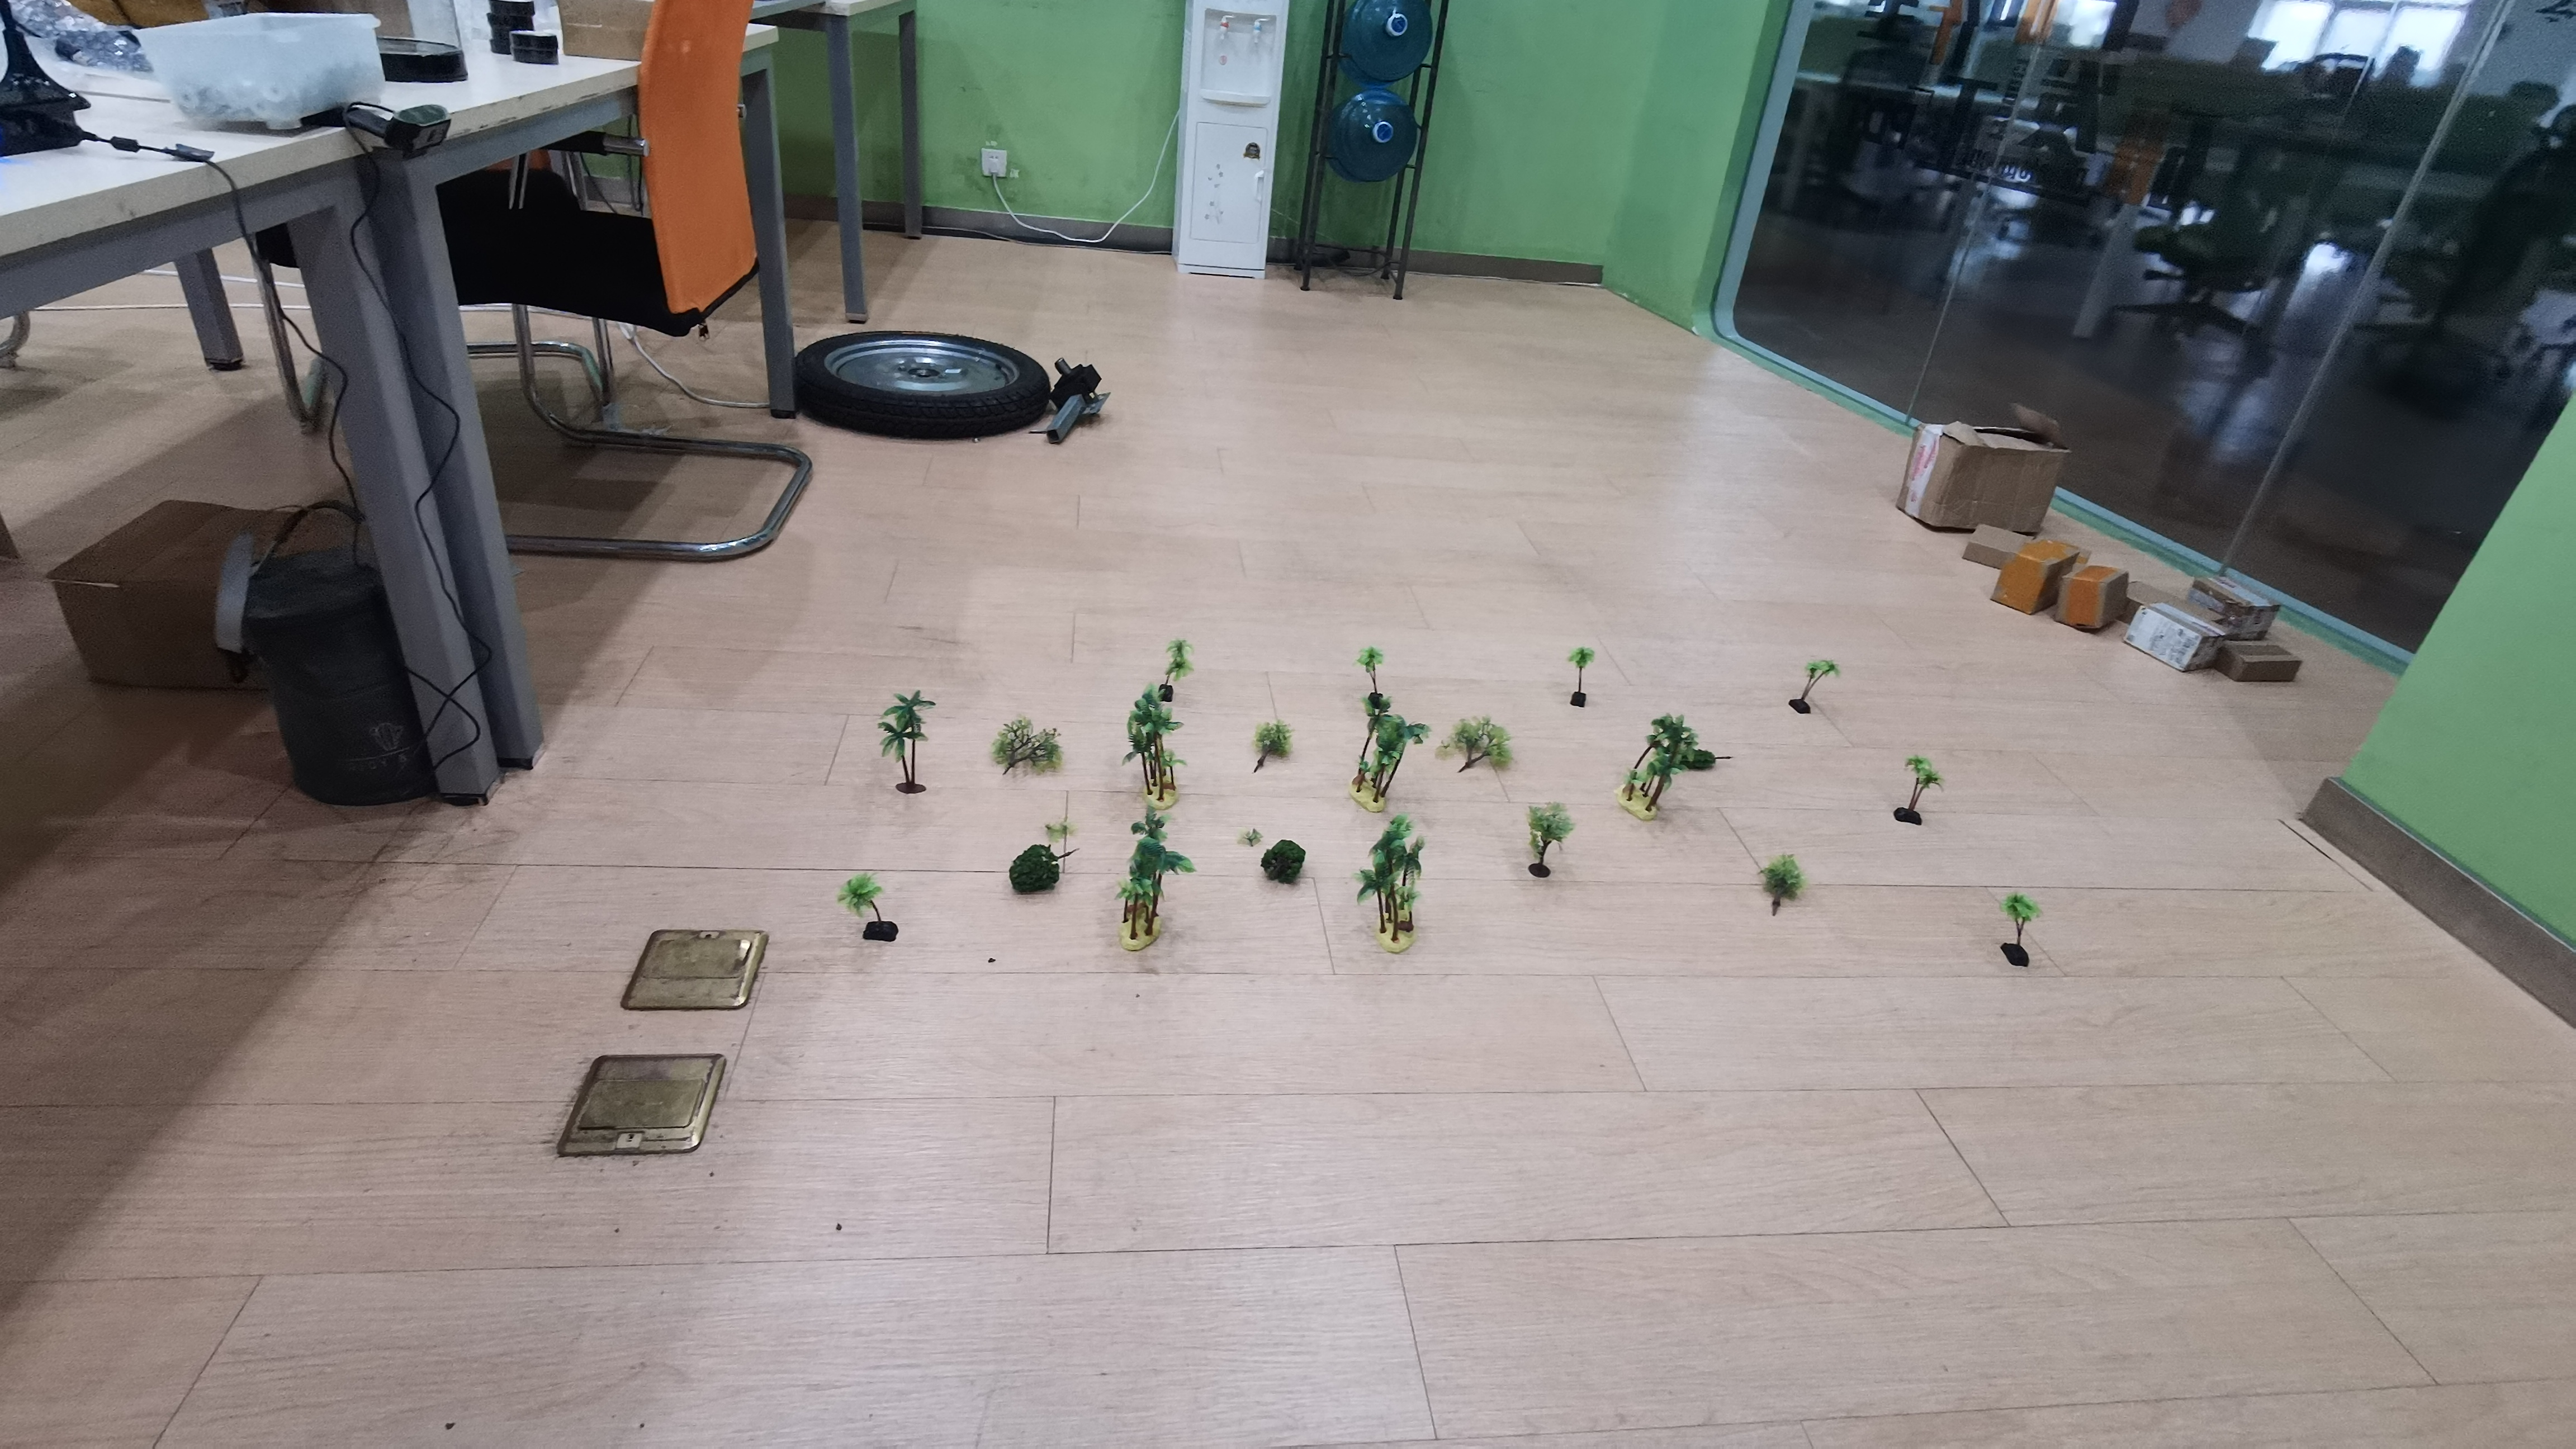corn: (1100, 805, 1201, 959), (1332, 816, 1435, 950), (1612, 711, 1721, 823), (1336, 697, 1433, 810), (867, 685, 945, 796), (1127, 695, 1200, 814), (1985, 886, 2056, 982), (826, 878, 916, 947), (1888, 745, 1955, 832), (1131, 637, 1210, 709), (1789, 649, 1844, 724), (1353, 644, 1405, 713), (1557, 644, 1603, 715)
